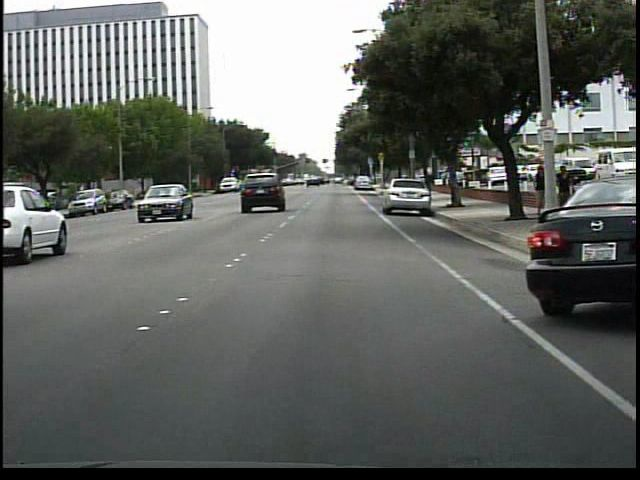person: (551, 157, 576, 218), (530, 161, 553, 222)
